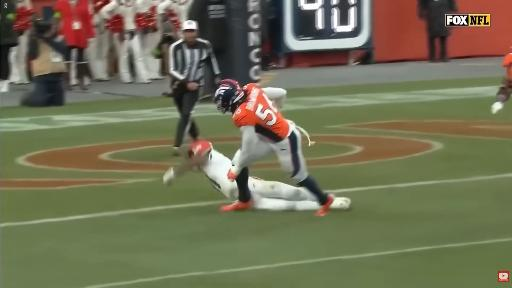Helmet: (214, 80, 246, 113), (188, 141, 212, 158)
Jersey: (233, 84, 291, 142), (202, 150, 237, 198), (503, 53, 511, 81)
Player: (215, 80, 334, 215), (163, 141, 237, 198), (491, 53, 511, 113)
